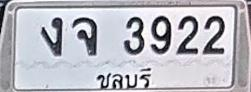2: (176, 15, 198, 54), (203, 14, 224, 54)
3: (123, 16, 144, 55)
9: (150, 14, 171, 54)
A07: (41, 16, 62, 56)
A08: (72, 16, 97, 56)
CBI: (92, 67, 154, 92)
